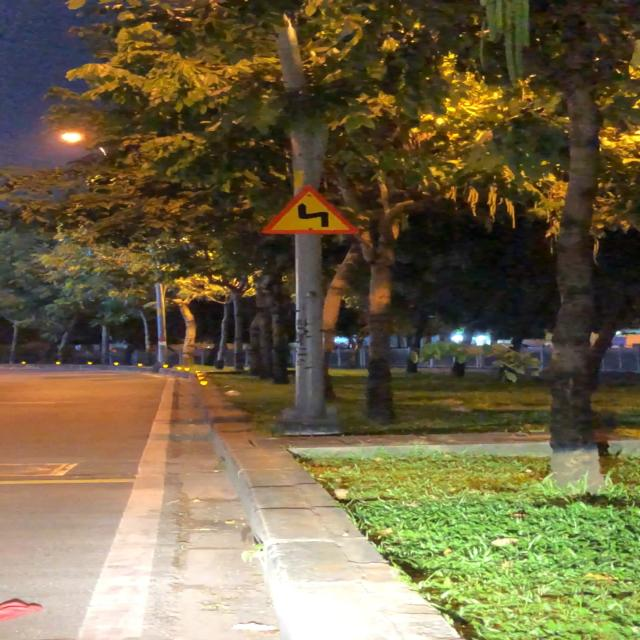Bien bao nhieu cho ngoat nguy hiem lien tiep: (258, 183, 363, 238)
